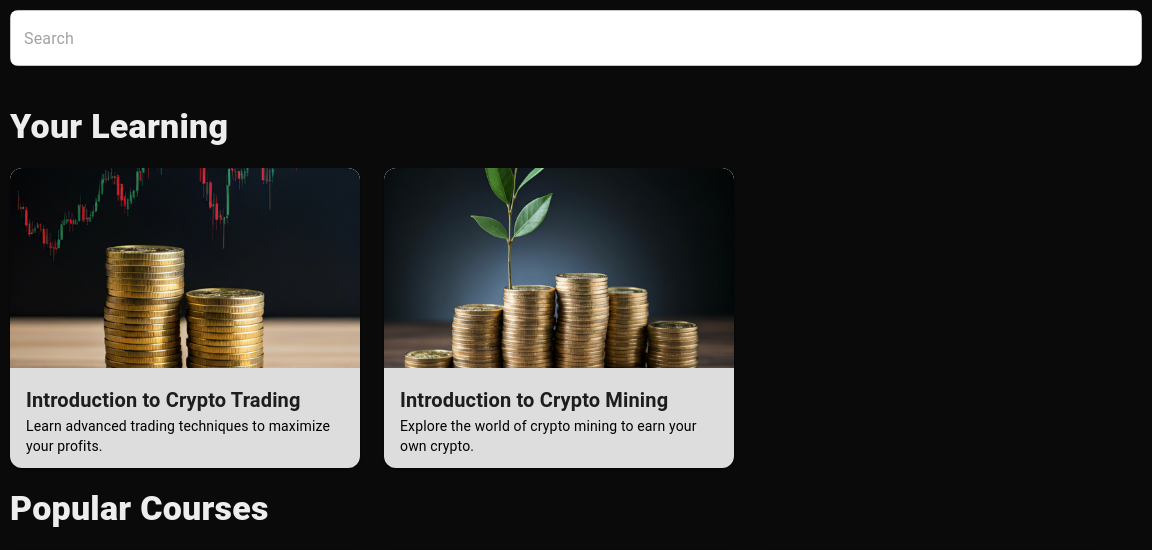
Test: MainSection Component › filters courses based on search term
# simulate typing in the search input
Type "Crypto Trading" into the field with placeholder "Search".
click(576, 38); type("Crypto Trading")  # box [10,10,1142,66]
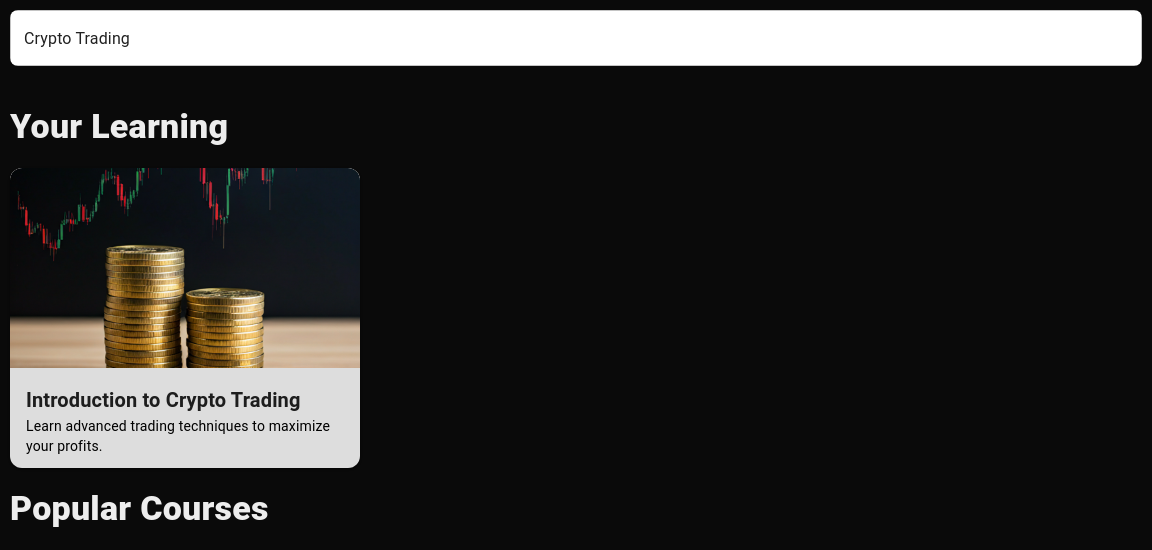
Expected: the heading "Introduction to Crypto Trading" is shown, [26,384,344,416]
Expected: the heading "Introduction to Crypto Mining" is gone
